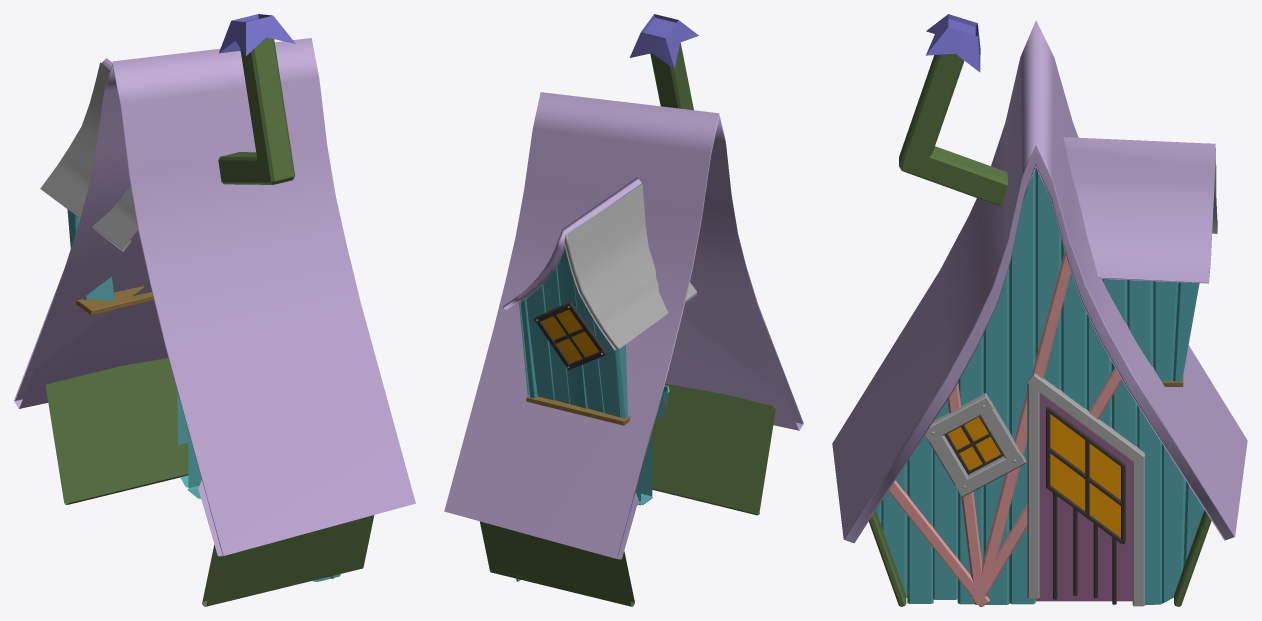
Rendered from ON_VA_VOIR_HASSOUL.fbx.
The picture shows the model from 3 angles, left to right: view 1: azimuth 30°, elevation 25°; view 2: azimuth 150°, elevation 25°; view 3: azimuth 270°, elevation 25°; orthographic projection. The views are drawn at different scales.
Parts seen in each view (by area): view 1: polySurface43, polySurface87, polySurface86, polySurface45, polySurface63, polySurface90, polySurface89, polySurface88, polySurface95; view 2: polySurface43, polySurface86, polySurface45, polySurface87, polySurface90, polySurface112, polySurface63, polySurface44, polySurface116, polySurface42, polySurface113, polySurface103 (+5 smaller); view 3: polySurface43, polySurface44, polySurface62, polySurface98, polySurface40, polySurface101, polySurface63, polySurface94, polySurface93, polySurface117, polySurface89, polySurface102 (+30 smaller).
Part boxes in pixels (left/top/right/bottom): polySurface43: left=14, top=38, right=415, bottom=556; polySurface87: left=45, top=358, right=188, bottom=504; polySurface86: left=202, top=515, right=374, bottom=606; polySurface45: left=40, top=62, right=137, bottom=251; polySurface63: left=240, top=38, right=294, bottom=183; polySurface90: left=219, top=14, right=295, bottom=55; polySurface89: left=218, top=152, right=292, bottom=184; polySurface88: left=76, top=285, right=153, bottom=315; polySurface95: left=67, top=209, right=114, bottom=300; polySurface43: left=444, top=92, right=803, bottom=559; polySurface86: left=652, top=383, right=775, bottom=515; polySurface45: left=564, top=184, right=696, bottom=350; polySurface87: left=479, top=521, right=634, bottom=606; polySurface90: left=629, top=14, right=698, bottom=68; polySurface112: left=526, top=284, right=554, bottom=400; polySurface63: left=650, top=43, right=693, bottom=110; polySurface44: left=503, top=177, right=641, bottom=310; polySurface116: left=557, top=248, right=587, bottom=408; polySurface42: left=541, top=309, right=598, bottom=363; polySurface113: left=594, top=320, right=621, bottom=417; polySurface103: left=543, top=267, right=569, bottom=403; polySurface43: left=832, top=20, right=1247, bottom=543; polySurface44: left=1063, top=137, right=1215, bottom=283; polySurface62: left=1035, top=393, right=1132, bottom=601; polySurface98: left=1009, top=168, right=1035, bottom=604; polySurface40: left=1050, top=414, right=1120, bottom=537; polySurface101: left=1035, top=167, right=1061, bottom=389; polySurface63: left=899, top=53, right=964, bottom=174; polySurface94: left=907, top=435, right=933, bottom=603; polySurface93: left=1137, top=405, right=1162, bottom=605; polySurface117: left=1162, top=444, right=1185, bottom=602; polySurface89: left=901, top=146, right=1007, bottom=206; polySurface102: left=983, top=266, right=1009, bottom=429.
Bounding box in the file's own units: 7.59 × 19.63 × 13.29.
